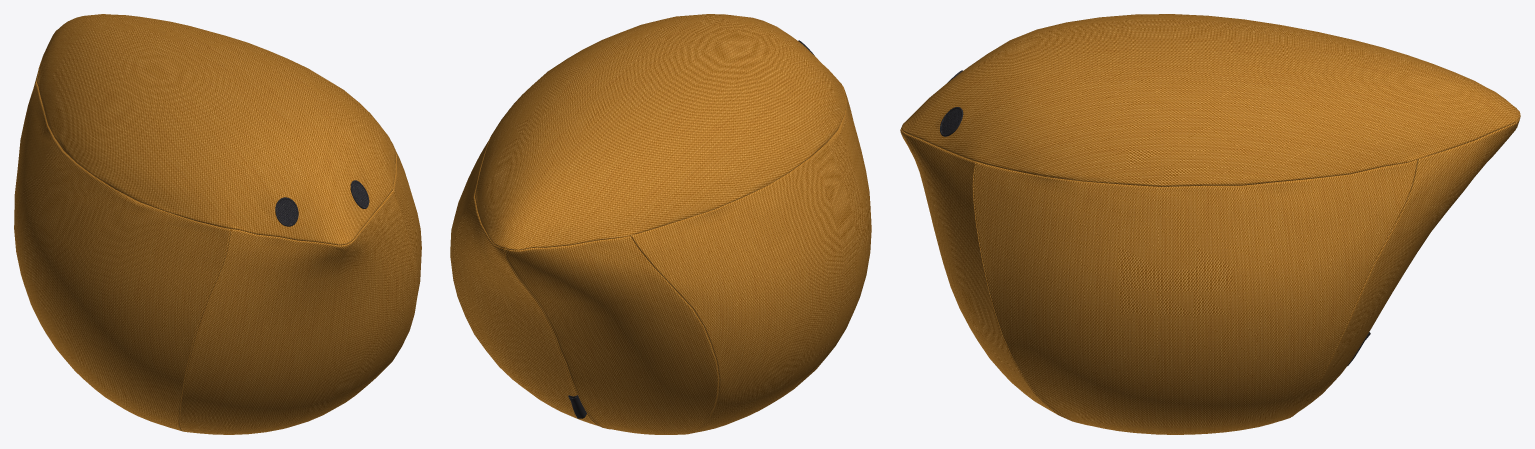
Rendered from Hulsta_Birdy_Pouf_mat(5).fbx.
The picture shows the model from 3 angles, left to right: view 1: azimuth 30°, elevation 25°; view 2: azimuth 150°, elevation 25°; view 3: azimuth 270°, elevation 25°; orthographic projection. The views are drawn at different scales.
Visible parts, largest first — view 1: Hulsta_Birdy_Pouf_mat5; view 2: Hulsta_Birdy_Pouf_mat5; view 3: Hulsta_Birdy_Pouf_mat5.
Part boxes in pixels (x1,y1,x2,y2): Hulsta_Birdy_Pouf_mat5: [14, 14, 421, 434]; Hulsta_Birdy_Pouf_mat5: [450, 14, 871, 434]; Hulsta_Birdy_Pouf_mat5: [900, 14, 1520, 434].
Bounding box in the file's own units: 50.8 × 74.33 × 48.
